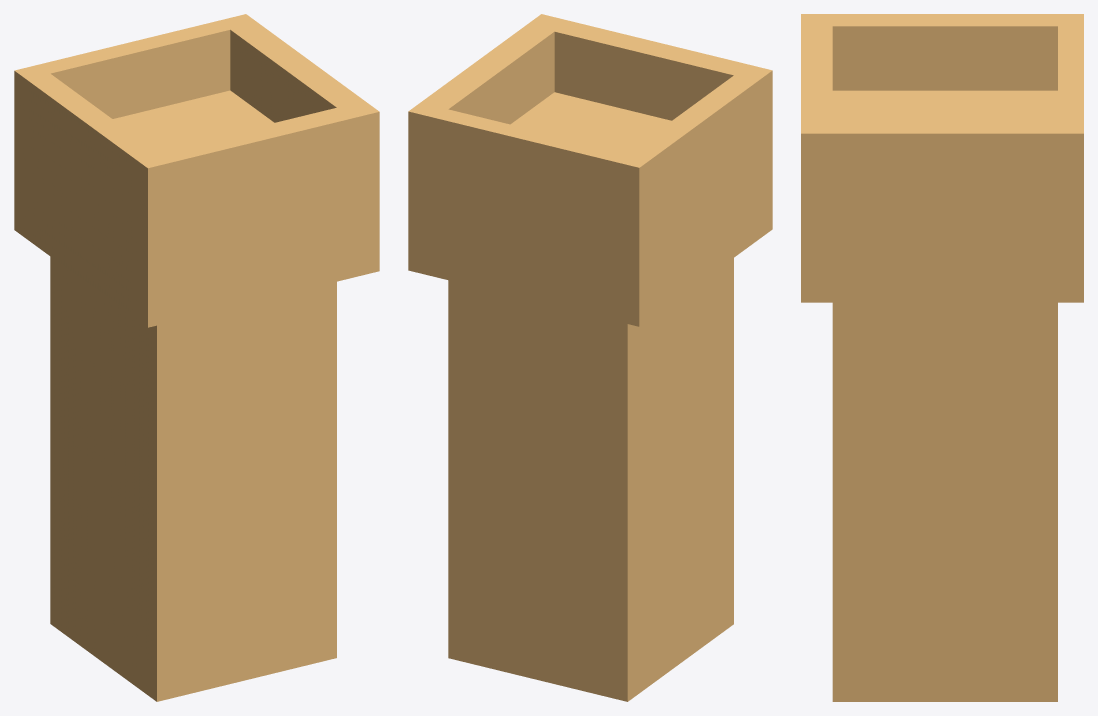
Rendered from Chemny.FBX.
3 views of the same model, side by side, from view 1: azimuth 30°, elevation 25°; view 2: azimuth 150°, elevation 25°; view 3: azimuth 270°, elevation 25° (orthographic). The views are drawn at different scales.
Visible parts, largest first — view 1: Box001; view 2: Box001; view 3: Box001.
Part boxes in pixels (x1,y1,x2,y2): Box001: (14,14,379,701); Box001: (408,14,772,701); Box001: (801,14,1083,701).
Bounding box in the file's own units: 6.4 × 14.52 × 6.39.
